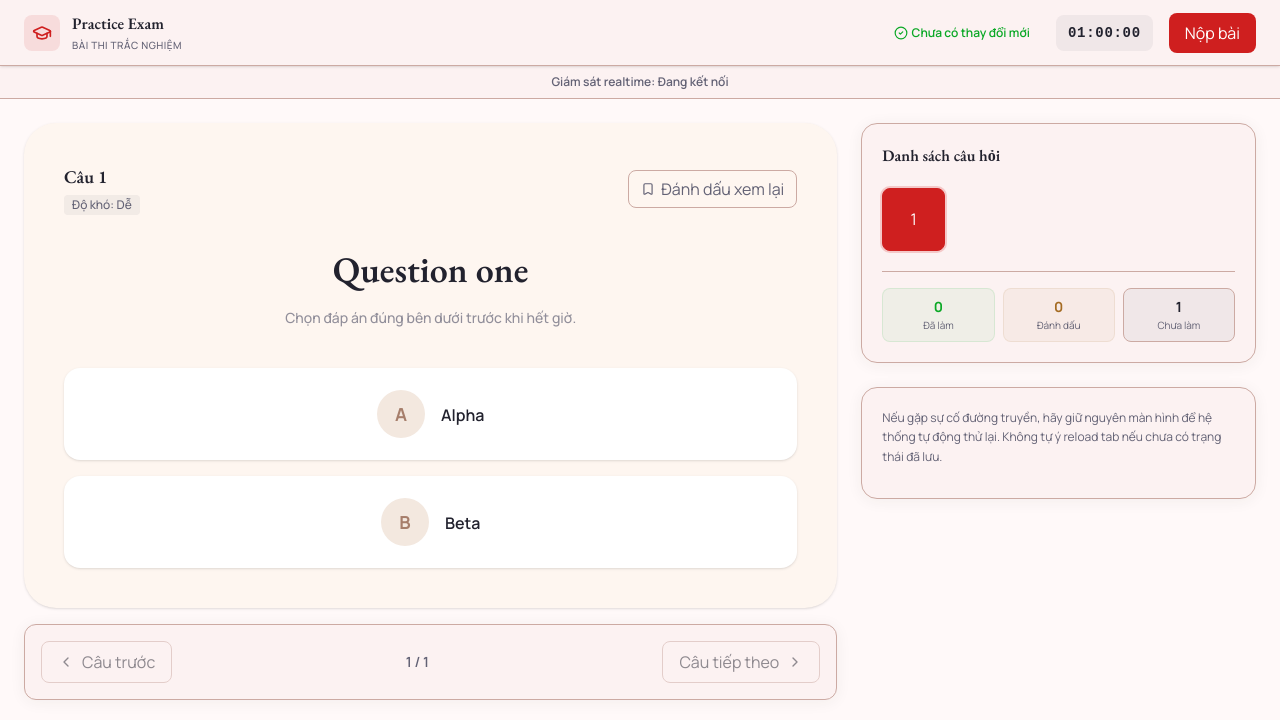
Test case: flushes dirty answers before submit and locks editing after acceptance
The width and height of the screenshot is (1280, 720).
Click the button "A Alpha" at (401, 414), box [64,368,797,460]
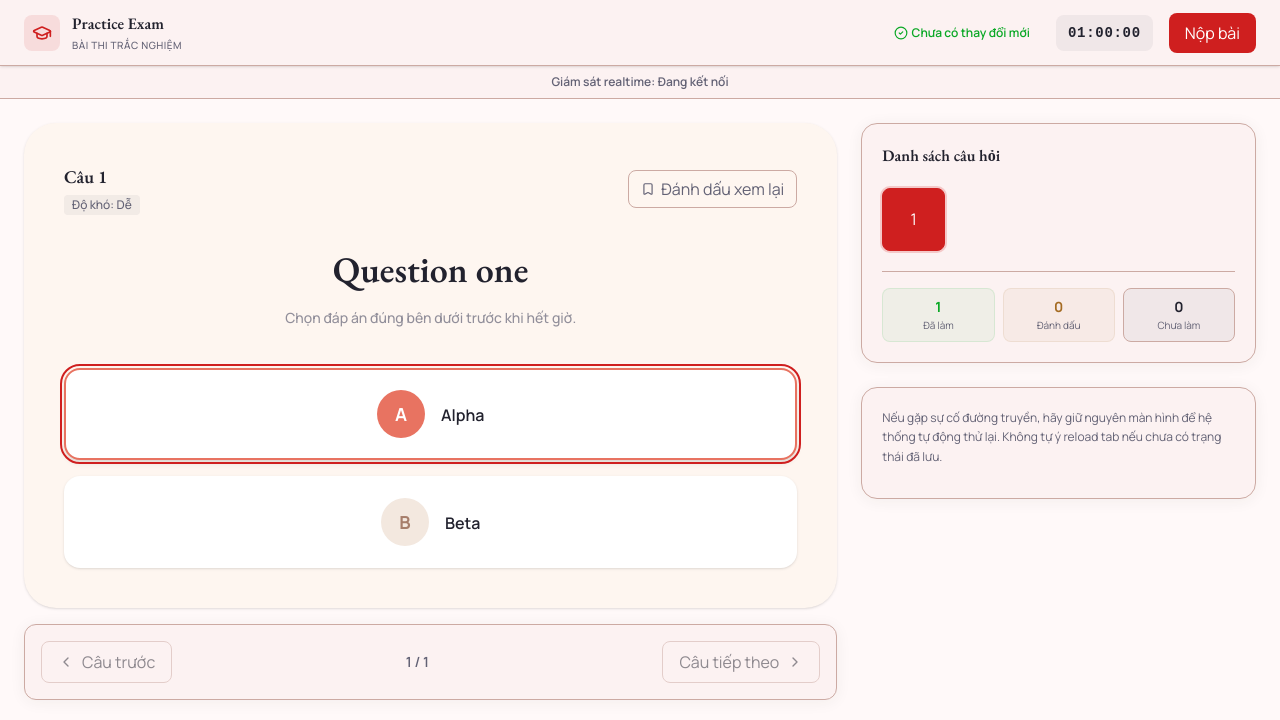
Click the button "Nộp bài" at (1212, 32), box [1169,12,1256,52]
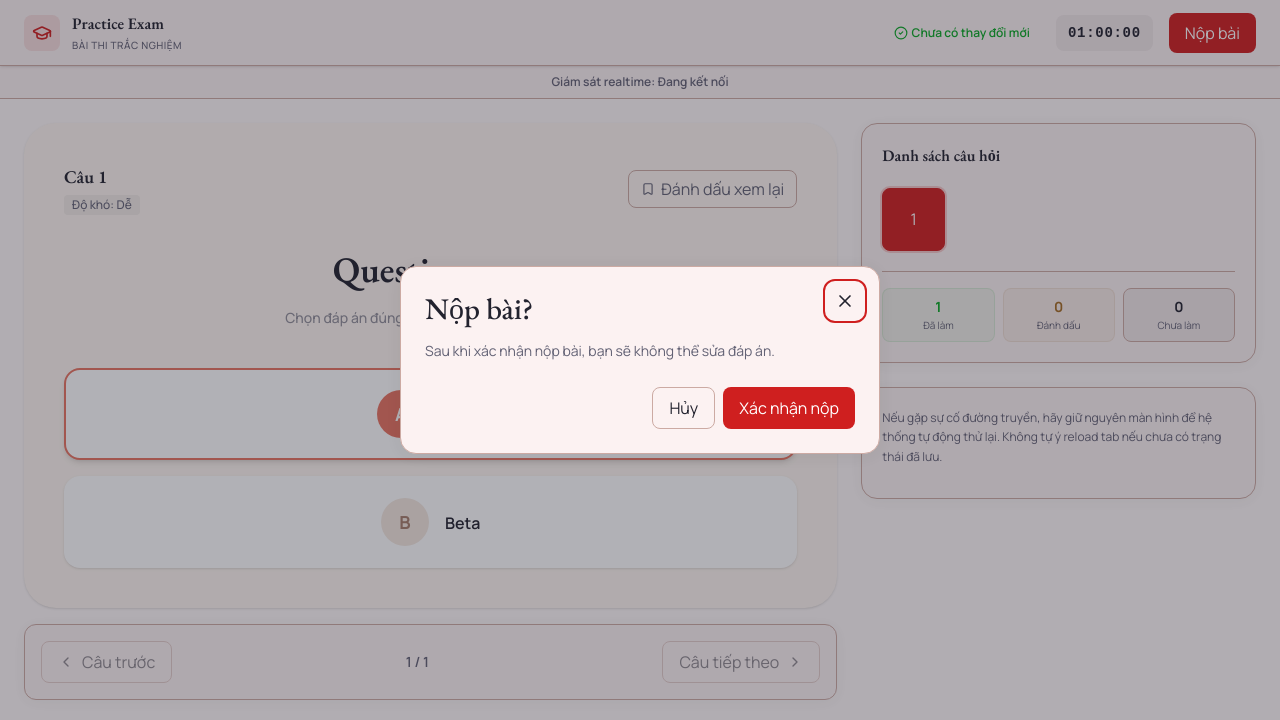
Click the button "Xác nhận nộp" at (789, 408), box [723,387,855,429]
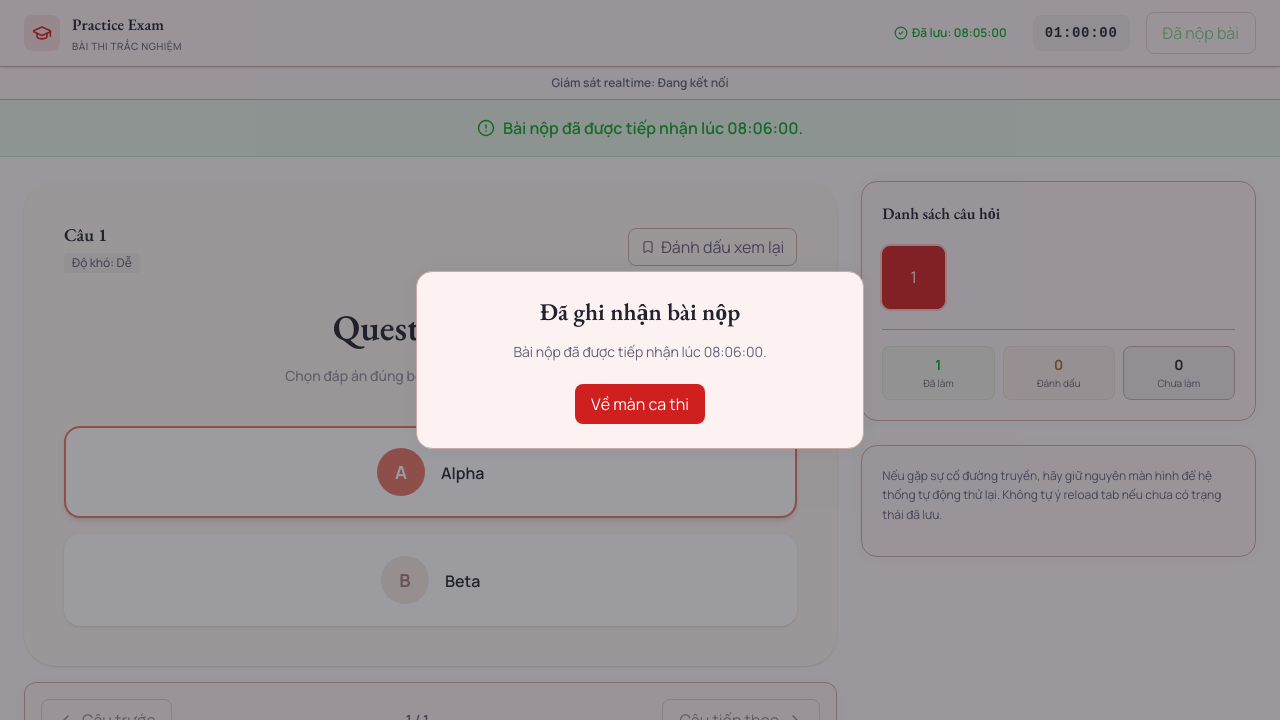
Expected: the heading "Đã ghi nhận bài nộp" is shown, [540,296,740,327]
Expected: the button "A Alpha" is disabled, [64,426,797,518]
